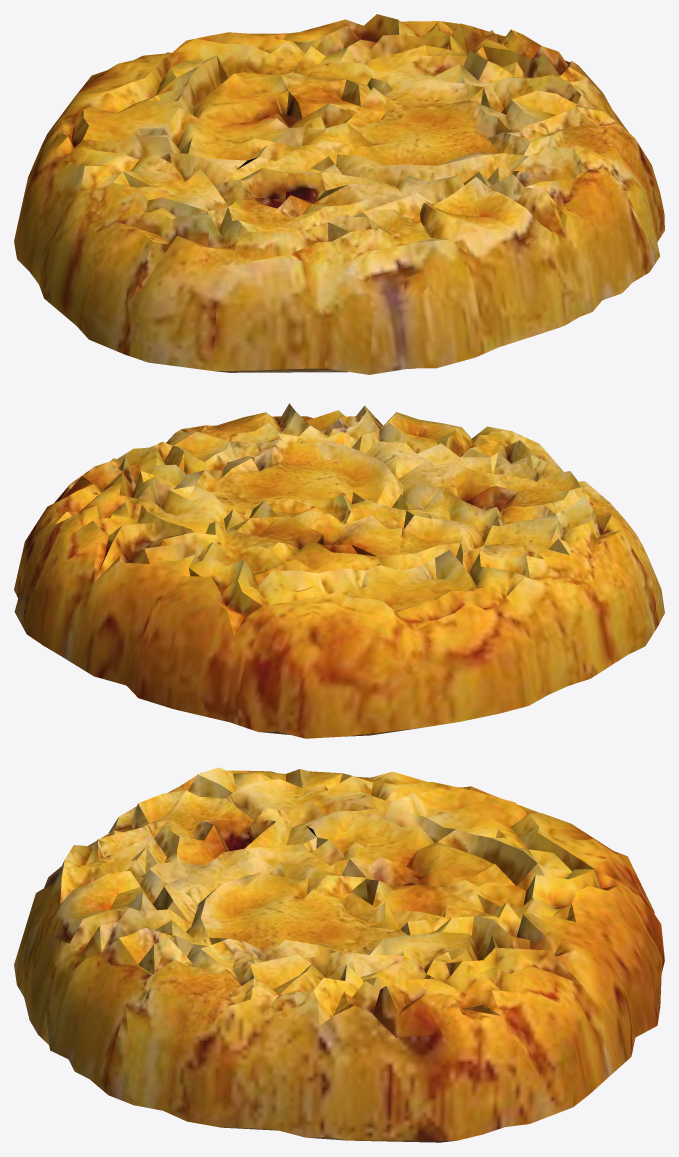
File: prop_chocolate_chip_cookie.glb
3 renders of one model, top to bottom at view 1: azimuth 30°, elevation 25°; view 2: azimuth 150°, elevation 25°; view 3: azimuth 270°, elevation 25°, orthographic. The views are drawn at different scales.
Visible parts, largest first — view 1: Pastry; view 2: Pastry; view 3: Pastry.
Boxes of the visible parts, <box> form: Pastry: <box>14,14,664,374</box>; Pastry: <box>14,403,664,738</box>; Pastry: <box>14,767,664,1142</box>.
Size of the model in its own units: 0.0986 by 0.0228 by 0.0931.
1 material, 1 textured.
